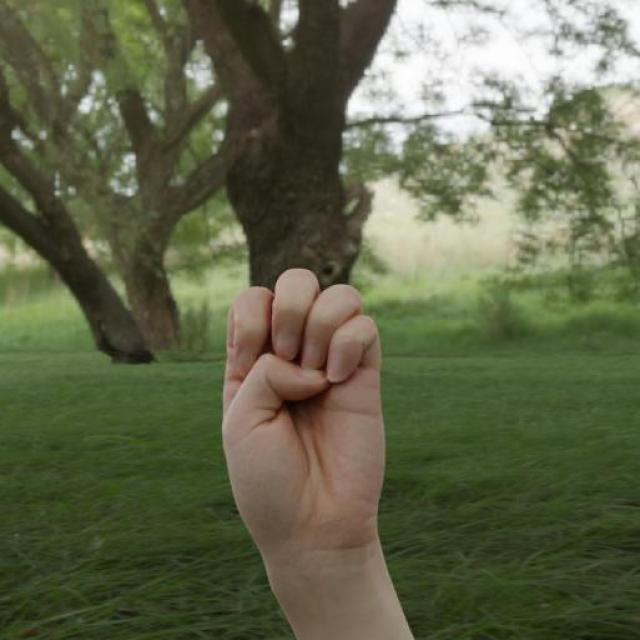E: (215, 263, 392, 563)
